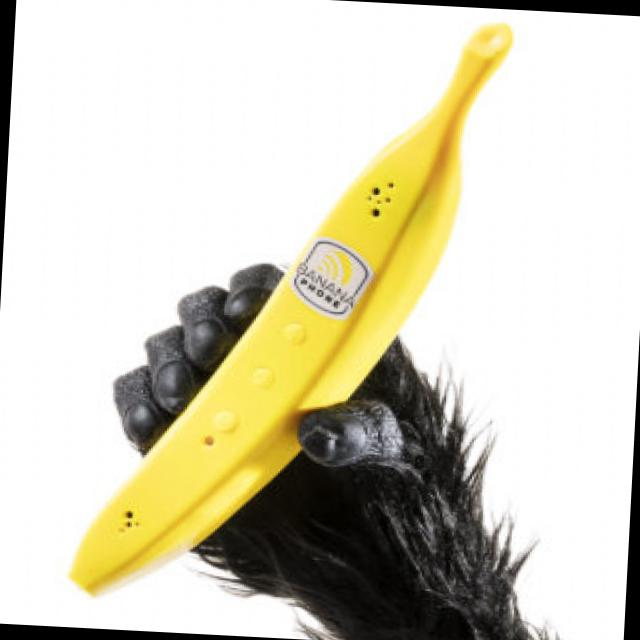banana: (44, 5, 538, 627)
